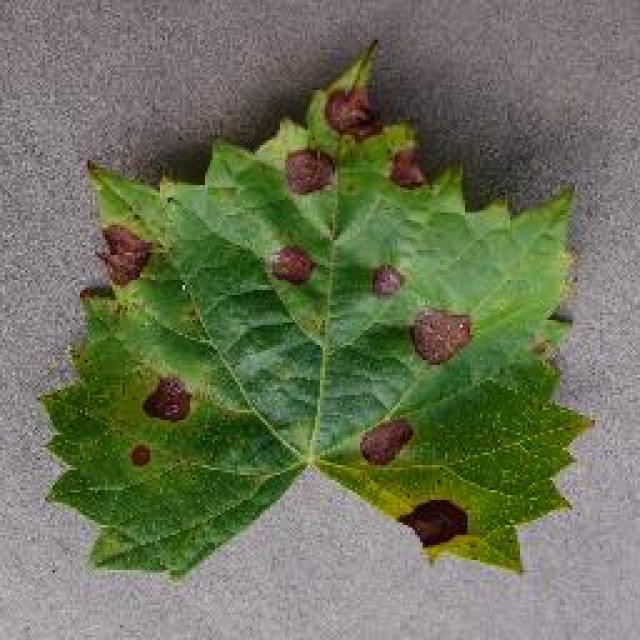Grape___Black_rot: (34, 36, 600, 587)
